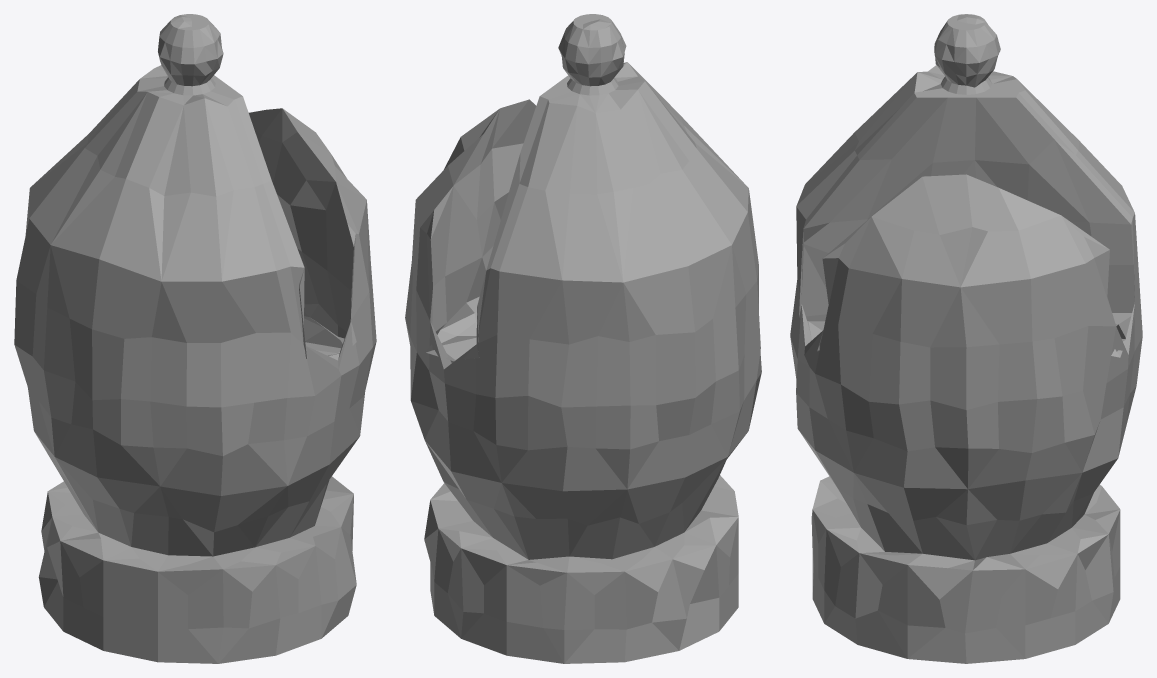
File: bishop.fbx
3 renders of one model, left to right at view 1: azimuth 30°, elevation 25°; view 2: azimuth 150°, elevation 25°; view 3: azimuth 270°, elevation 25°, orthographic.
Visible parts, largest first — view 1: Bishop; view 2: Bishop; view 3: Bishop.
Part boxes in pixels (x1=…): Bishop: x1=14, y1=14, x2=376, y2=663; Bishop: x1=405, y1=14, x2=761, y2=663; Bishop: x1=790, y1=14, x2=1142, y2=663.
Bounding box in the file's own units: 143 × 257 × 143.
